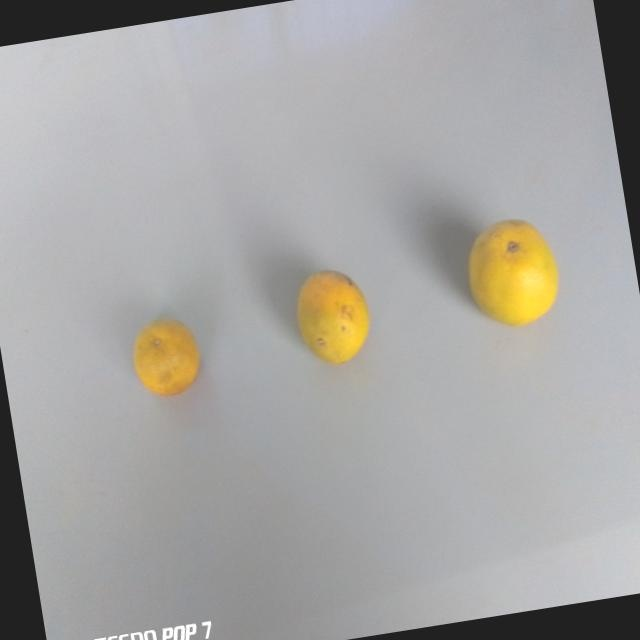agrume: (454, 210, 571, 338), (281, 256, 383, 378), (121, 307, 214, 405)
